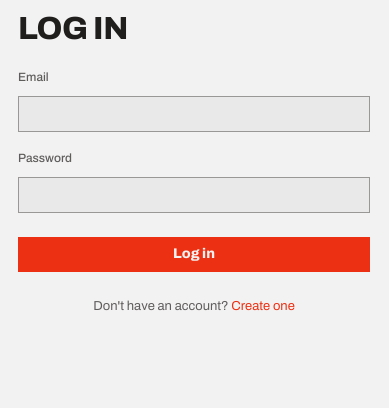
Test: LoginPage › shows validation errors and does not submit when fields are empty
This screenshot has width=389, height=408.
What coordinates should you click on to do the following:
click the button "Log in"
I would click on:
 (194, 254)
Its box is x1=18 y1=237 x2=370 y2=272.
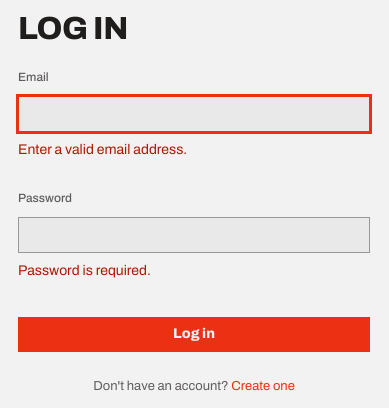
Check: the text "Enter a valid email address." is shown, box x1=18 y1=142 x2=187 y2=157
